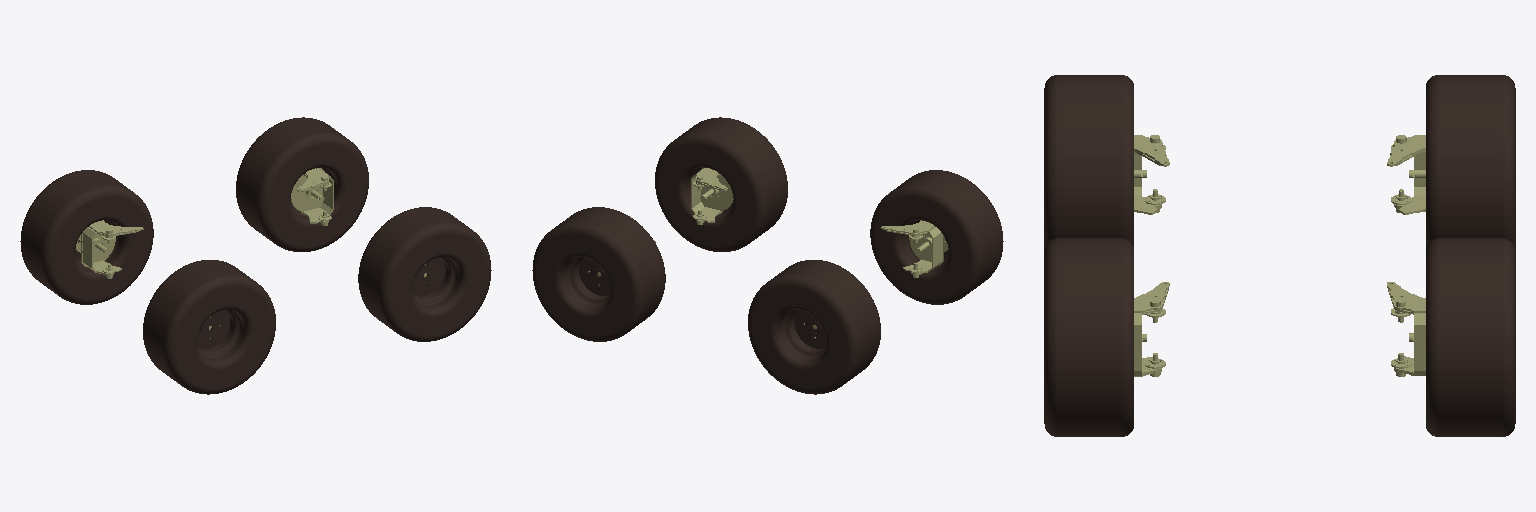
URDF robot description (h500_sprayer):
<?xml version="1.0" encoding="utf-8"?>
<!-- =================================================================================== -->
<!-- |    This document was autogenerated by xacro from [local-path]/github/hada_explorer_ws/src/h500_description/h500_sprayer/h500.urdf.xacro | -->
<!-- |    EDITING THIS FILE BY HAND IS NOT RECOMMENDED                                 | -->
<!-- =================================================================================== -->
<robot name="h500_sprayer">
  <!-- =============== Link & Joint =============== -->
  <!-- Base -->
  <link name="base_footprint"/>
  <joint name="base_link_joint" type="fixed">
    <origin rpy="0 0 0" xyz="0 0 0.15"/>
    <parent link="base_footprint"/>
    <child link="base_link"/>
  </joint>
  <link name="base_link">
    <visual>
      <geometry>
        <mesh filename="package://h500_description/meshes/DAE/base/h500_body.dae"/>
      </geometry>
    </visual>
    <collision>
      <geometry>
        <mesh filename="package://h500_description/meshes/DAE/base/h500_body.dae"/>
      </geometry>
    </collision>
    <inertial>
      <origin xyz="0 0 0.017"/>
      <mass value="1.2"/>
      <inertia ixx="0.0001873" ixy="0" ixz="0" iyy="0.000055" iyz="0" izz="0.0002283"/>
    </inertial>
  </link>
  <joint name="front_right_steering_joint" type="revolute">
    <origin xyz="-0.442 0.361 0.0135"/>
    <parent link="base_link"/>
    <child link="front_right_steering_link"/>
    <limit effort="5" lower="-2.1" upper="2.1" velocity="6.28"/>
    <axis xyz="0 0 2."/>
  </joint>
  <link name="front_right_steering_link">
    <visual>
      <geometry>
        <mesh filename="package://h500_description/meshes/DAE/suspension/front_right_link.dae"/>
      </geometry>
    </visual>
    <collision>
      <geometry>
        <mesh filename="package://h500_description/meshes/DAE/suspension/front_right_link.dae"/>
      </geometry>
    </collision>
    <inertial>
      <origin xyz="0 0 -0.02"/>
      <mass value="0.15"/>
      <inertia ixx="0.00001" ixy="0" ixz="0" iyy="0.00001" iyz="0" izz="0.000004"/>
    </inertial>
  </link>
  <joint name="front_left_steering_joint" type="revolute">
    <origin xyz="-0.442 -0.3495 0.0135"/>
    <parent link="base_link"/>
    <child link="front_left_steering_link"/>
    <limit effort="5" lower="-2.1" upper="2.1" velocity="6.28"/>
    <axis xyz="0 0 1"/>
  </joint>
  <link name="front_left_steering_link">
    <visual>
      <geometry>
        <mesh filename="package://h500_description/meshes/DAE/suspension/front_left_link.dae"/>
      </geometry>
    </visual>
    <collision>
      <geometry>
        <mesh filename="package://h500_description/meshes/DAE/suspension/front_left_link.dae"/>
      </geometry>
    </collision>
    <inertial>
      <origin xyz="0 0 -0.02"/>
      <mass value="0.15"/>
      <inertia ixx="0.00001" ixy="0" ixz="0" iyy="0.00001" iyz="0" izz="0.000004"/>
    </inertial>
  </link>
  <joint name="rear_right_steering_joint" type="revolute">
    <origin xyz="0.676 0.361 0.0135"/>
    <parent link="base_link"/>
    <child link="rear_right_steering_link"/>
    <limit effort="5" lower="-2.1" upper="2.1" velocity="6.28"/>
    <axis xyz="0 0 1"/>
  </joint>
  <link name="rear_right_steering_link">
    <visual>
      <geometry>
        <mesh filename="package://h500_description/meshes/DAE/suspension/rear_right_link.dae"/>
      </geometry>
    </visual>
    <collision>
      <geometry>
        <mesh filename="package://h500_description/meshes/DAE/suspension/rear_right_link.dae"/>
      </geometry>
    </collision>
    <inertial>
      <origin xyz="0 0 -0.02"/>
      <mass value="0.15"/>
      <inertia ixx="0.00001" ixy="0" ixz="0" iyy="0.00001" iyz="0" izz="0.000004"/>
    </inertial>
  </link>
  <joint name="rear_left_steering_joint" type="revolute">
    <origin xyz="0.676 -0.3495 0.0135"/>
    <parent link="base_link"/>
    <child link="rear_left_steering_link"/>
    <limit effort="5" lower="-2.1" upper="2.1" velocity="6.28"/>
    <axis xyz="0 0 1"/>
  </joint>
  <link name="rear_left_steering_link">
    <visual>
      <geometry>
        <mesh filename="package://h500_description/meshes/DAE/suspension/rear_left_link.dae"/>
      </geometry>
    </visual>
    <collision>
      <geometry>
        <mesh filename="package://h500_description/meshes/DAE/suspension/rear_left_link.dae"/>
      </geometry>
    </collision>
    <inertial>
      <origin xyz="0 0 -0.02"/>
      <mass value="0.15"/>
      <inertia ixx="0.00001" ixy="0" ixz="0" iyy="0.00001" iyz="0" izz="0.000004"/>
    </inertial>
  </link>
  <joint name="ffr_wheel_joint" type="continuous">
    <origin rpy="0 0 3.14159274" xyz="-0.0004 0.07 0.118"/>
    <parent link="front_right_steering_link"/>
    <child link="ffr_wheel_link"/>
    <limit effort="1.5" velocity="20"/>
    <axis xyz="0 1 0"/>
  </joint>
  <link name="ffr_wheel_link">
    <visual>
      <geometry>
        <mesh filename="package://h500_description/meshes/DAE/wheel/H500_wheel.dae"/>
      </geometry>
    </visual>
    <collision>
      <geometry>
        <mesh filename="package://h500_description/meshes/DAE/wheel/H500_wheel.dae"/>
      </geometry>
    </collision>
    <inertial>
      <origin xyz="0.0 -0.007 -0.0"/>
      <mass value="0.05"/>
      <inertia ixx="0.00001" ixy="0" ixz="0" iyy="0.000018" iyz="0" izz="0.00001"/>
    </inertial>
  </link>
  <joint name="ffl_wheel_joint" type="continuous">
    <origin rpy="0 0 3.14159274" xyz="-0.0004 -0.32 0.118"/>
    <parent link="front_left_steering_link"/>
    <child link="ffl_wheel_link"/>
    <limit effort="1.5" velocity="20"/>
    <axis xyz="0 -1 0"/>
  </joint>
  <link name="ffl_wheel_link">
    <visual>
      <geometry>
        <mesh filename="package://h500_description/meshes/DAE/wheel/H500_wheel.dae"/>
      </geometry>
    </visual>
    <collision>
      <geometry>
        <mesh filename="package://h500_description/meshes/DAE/wheel/H500_wheel.dae"/>
      </geometry>
    </collision>
    <inertial>
      <origin xyz="0.0 -0.007 -0.0"/>
      <mass value="0.05"/>
      <inertia ixx="0.00001" ixy="0" ixz="0" iyy="0.000018" iyz="0" izz="0.00001"/>
    </inertial>
  </link>
  <joint name="rfr_wheel_joint" type="continuous">
    <origin rpy="0 0 3.14159274" xyz="-0.0004 0.07 0.118"/>
    <parent link="rear_right_steering_link"/>
    <child link="rfr_wheel_link"/>
    <limit effort="1.5" velocity="20"/>
    <axis xyz="0 1 0"/>
  </joint>
  <link name="rfr_wheel_link">
    <visual>
      <geometry>
        <mesh filename="package://h500_description/meshes/DAE/wheel/H500_wheel.dae"/>
      </geometry>
    </visual>
    <collision>
      <geometry>
        <mesh filename="package://h500_description/meshes/DAE/wheel/H500_wheel.dae"/>
      </geometry>
    </collision>
    <inertial>
      <origin xyz="0.0 -0.007 -0.0"/>
      <mass value="0.05"/>
      <inertia ixx="0.00001" ixy="0" ixz="0" iyy="0.000018" iyz="0" izz="0.00001"/>
    </inertial>
  </link>
  <joint name="rfl_wheel_joint" type="continuous">
    <origin rpy="0 0 3.14159274" xyz="-0.0004 -0.32 0.118"/>
    <parent link="rear_left_steering_link"/>
    <child link="rfl_wheel_link"/>
    <limit effort="1.5" velocity="20"/>
    <axis xyz="0 -1 0"/>
  </joint>
  <link name="rfl_wheel_link">
    <visual>
      <geometry>
        <mesh filename="package://h500_description/meshes/DAE/wheel/H500_wheel.dae"/>
      </geometry>
    </visual>
    <collision>
      <geometry>
        <mesh filename="package://h500_description/meshes/DAE/wheel/H500_wheel.dae"/>
      </geometry>
    </collision>
    <inertial>
      <origin xyz="0.0 -0.007 -0.0"/>
      <mass value="0.05"/>
      <inertia ixx="0.00001" ixy="0" ixz="0" iyy="0.000018" iyz="0" izz="0.00001"/>
    </inertial>
  </link>
  <transmission name="ffr_wheel_trans">
    <type>transmission_interface/SimpleTransmission</type>
    <joint name="ffr_wheel_joint">
      <hardwareInterface>hardware_interface/VelocityJointInterface</hardwareInterface>
    </joint>
    <actuator name="ffr_wheel_motor">
      <hardwareInterface>hardware_interface/VelocityJointInterface</hardwareInterface>
      <mechanicalReduction>1</mechanicalReduction>
    </actuator>
  </transmission>
  <transmission name="ffl_wheel_trans">
    <type>transmission_interface/SimpleTransmission</type>
    <joint name="ffl_wheel_joint">
      <hardwareInterface>hardware_interface/VelocityJointInterface</hardwareInterface>
    </joint>
    <actuator name="ffl_wheel_motor">
      <hardwareInterface>hardware_interface/VelocityJointInterface</hardwareInterface>
      <mechanicalReduction>1</mechanicalReduction>
    </actuator>
  </transmission>
  <transmission name="rfr_wheel_trans">
    <type>transmission_interface/SimpleTransmission</type>
    <joint name="rfr_wheel_joint">
      <hardwareInterface>hardware_interface/VelocityJointInterface</hardwareInterface>
    </joint>
    <actuator name="rfr_wheel_motor">
      <hardwareInterface>hardware_interface/VelocityJointInterface</hardwareInterface>
      <mechanicalReduction>1</mechanicalReduction>
    </actuator>
  </transmission>
  <transmission name="rfl_wheel_trans">
    <type>transmission_interface/SimpleTransmission</type>
    <joint name="rfl_wheel_joint">
      <hardwareInterface>hardware_interface/VelocityJointInterface</hardwareInterface>
    </joint>
    <actuator name="rfl_wheel_motor">
      <hardwareInterface>hardware_interface/VelocityJointInterface</hardwareInterface>
      <mechanicalReduction>1</mechanicalReduction>
    </actuator>
  </transmission>
  <transmission name="front_right_steering_trans">
    <type>transmission_interface/SimpleTransmission</type>
    <joint name="front_right_steering_joint">
      <hardwareInterface>hardware_interface/PositionJointInterface</hardwareInterface>
    </joint>
    <actuator name="front_right_steering_motor">
      <hardwareInterface>hardware_interface/PositionJointInterface</hardwareInterface>
      <mechanicalReduction>30</mechanicalReduction>
    </actuator>
  </transmission>
  <transmission name="front_left_steering_trans">
    <type>transmission_interface/SimpleTransmission</type>
    <joint name="front_left_steering_joint">
      <hardwareInterface>hardware_interface/PositionJointInterface</hardwareInterface>
    </joint>
    <actuator name="front_left_steering_motor">
      <hardwareInterface>hardware_interface/PositionJointInterface</hardwareInterface>
      <mechanicalReduction>30</mechanicalReduction>
    </actuator>
  </transmission>
  <transmission name="rear_right_steering_trans">
    <type>transmission_interface/SimpleTransmission</type>
    <joint name="rear_right_steering_joint">
      <hardwareInterface>hardware_interface/PositionJointInterface</hardwareInterface>
    </joint>
    <actuator name="rear_right_steering_motor">
      <hardwareInterface>hardware_interface/PositionJointInterface</hardwareInterface>
      <mechanicalReduction>30</mechanicalReduction>
    </actuator>
  </transmission>
  <transmission name="rear_left_steering_trans">
    <type>transmission_interface/SimpleTransmission</type>
    <joint name="rear_left_steering_joint">
      <hardwareInterface>hardware_interface/PositionJointInterface</hardwareInterface>
    </joint>
    <actuator name="rear_left_steering_motor">
      <hardwareInterface>hardware_interface/PositionJointInterface</hardwareInterface>
      <mechanicalReduction>30</mechanicalReduction>
    </actuator>
  </transmission>
  <!-- =============== Gazebo =============== -->
  <gazebo>
    <plugin filename="libgazebo_ros_control.so" name="gazebo_ros_control">
    </plugin>
  </gazebo>
  <gazebo reference="base_link">
    <selfCollide>false</selfCollide>
    <mu1 value="0.05"/>
    <mu2 value="0.05"/>
  </gazebo>
  <gazebo reference="fr_wheel_link">
    <selfCollide>false</selfCollide>
    <mu1 value="1.2"/>
    <mu2 value="1.2"/>
  </gazebo>
  <gazebo reference="fl_wheel_link">
    <selfCollide>false</selfCollide>
    <mu1 value="1.2"/>
    <mu2 value="1.2"/>
  </gazebo>
  <gazebo reference="rr_wheel_link">
    <selfCollide>false</selfCollide>
    <mu1 value="1.2"/>
    <mu2 value="1.2"/>
  </gazebo>
  <gazebo reference="rl_wheel_link">
    <selfCollide>false</selfCollide>
    <mu1 value="1.2"/>
    <mu2 value="1.2"/>
  </gazebo>
  <gazebo reference="front_right_steering_link">
    <selfCollide>false</selfCollide>
    <mu1 value="0.05"/>
    <mu2 value="0.05"/>
  </gazebo>
  <gazebo reference="front_left_steering_link">
    <selfCollide>false</selfCollide>
    <mu1 value="0.05"/>
    <mu2 value="0.05"/>
  </gazebo>
  <gazebo reference="rear_right_steering_link">
    <selfCollide>false</selfCollide>
    <mu1 value="0.05"/>
    <mu2 value="0.05"/>
  </gazebo>
  <gazebo reference="rear_left_steering_link">
    <selfCollide>false</selfCollide>
    <mu1 value="0.05"/>
    <mu2 value="0.05"/>
  </gazebo>
</robot>

--- What the picture shows (computed from the rendered views, not written in the file) ---
The picture shows the robot from 3 angles, left to right: view 1: azimuth 30°, elevation 25°; view 2: azimuth 150°, elevation 25°; view 3: azimuth 270°, elevation 25°; orthographic projection.
Model h500_sprayer with 10 links and 9 joints (4 revolute, 4 continuous, 1 fixed), rooted at base_footprint, posed all joints at 0.
Visible links, largest first — view 1: rfl_wheel_link, ffl_wheel_link, ffr_wheel_link, rfr_wheel_link, rear_right_steering_link, front_right_steering_link; view 2: rfr_wheel_link, ffr_wheel_link, ffl_wheel_link, rfl_wheel_link, rear_left_steering_link, front_left_steering_link; view 3: rfr_wheel_link, rfl_wheel_link, ffr_wheel_link, ffl_wheel_link, rear_right_steering_link, front_right_steering_link, rear_left_steering_link, front_left_steering_link.
Link boxes in pixels (bbox=[...]): rfl_wheel_link: bbox=[358, 207, 491, 341]; ffl_wheel_link: bbox=[143, 260, 275, 394]; ffr_wheel_link: bbox=[20, 170, 153, 304]; rfr_wheel_link: bbox=[236, 117, 368, 251]; rear_right_steering_link: bbox=[291, 168, 333, 225]; front_right_steering_link: bbox=[76, 220, 143, 278]; rfr_wheel_link: bbox=[532, 207, 665, 341]; ffr_wheel_link: bbox=[748, 260, 880, 394]; ffl_wheel_link: bbox=[870, 170, 1003, 304]; rfl_wheel_link: bbox=[655, 117, 787, 251]; rear_left_steering_link: bbox=[691, 168, 733, 224]; front_left_steering_link: bbox=[881, 220, 948, 277]; rfr_wheel_link: bbox=[1426, 238, 1515, 436]; rfl_wheel_link: bbox=[1044, 238, 1133, 436]; ffr_wheel_link: bbox=[1426, 75, 1515, 251]; ffl_wheel_link: bbox=[1044, 75, 1133, 251]; rear_right_steering_link: bbox=[1387, 282, 1425, 376]; front_right_steering_link: bbox=[1387, 135, 1425, 214]; rear_left_steering_link: bbox=[1134, 282, 1169, 376]; front_left_steering_link: bbox=[1134, 135, 1169, 214].
Size in the robot's own frame: 1.69 by 1.36 by 0.575 metres.
Meshes: 6 distinct files referenced, 8 mesh visuals loaded (5 Collada DAE); not drawn: 1 (reference not matched to a file when rendering).
